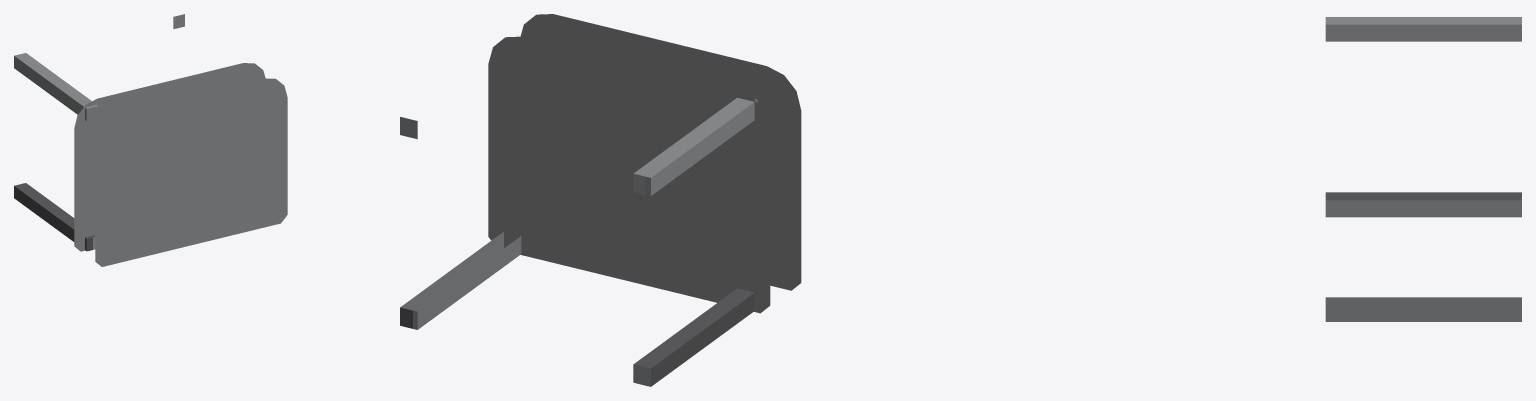
3 renders of one model, left to right at view 1: azimuth 30°, elevation 25°; view 2: azimuth 150°, elevation 25°; view 3: azimuth 270°, elevation 25°, orthographic. The views are drawn at different scales.
Size of the model in its own units: 0.59 by 0.5751 by 1.1.
